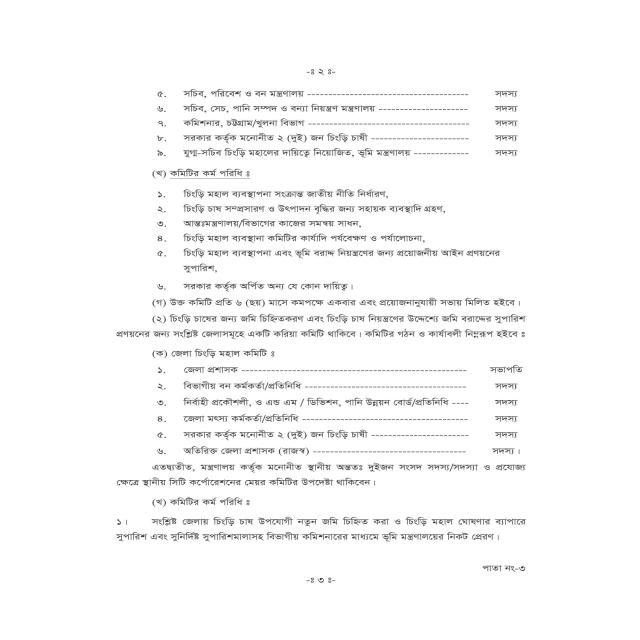page number: (482, 564, 526, 572)
paragraph: (110, 515, 530, 544), (108, 460, 527, 489), (113, 313, 528, 341), (152, 247, 503, 275), (155, 429, 519, 441), (154, 132, 521, 143), (153, 147, 520, 158), (150, 297, 517, 308), (154, 445, 520, 456), (154, 87, 519, 98), (154, 103, 519, 114), (155, 117, 520, 128), (155, 380, 520, 391), (154, 397, 519, 407), (155, 413, 518, 423), (155, 203, 447, 215), (154, 365, 524, 374), (156, 232, 427, 244), (154, 218, 363, 229), (154, 281, 353, 292), (155, 189, 389, 198)
text: (317, 68, 325, 75), (318, 575, 325, 583)
title: (150, 348, 268, 358), (151, 167, 243, 178), (152, 496, 243, 507)
